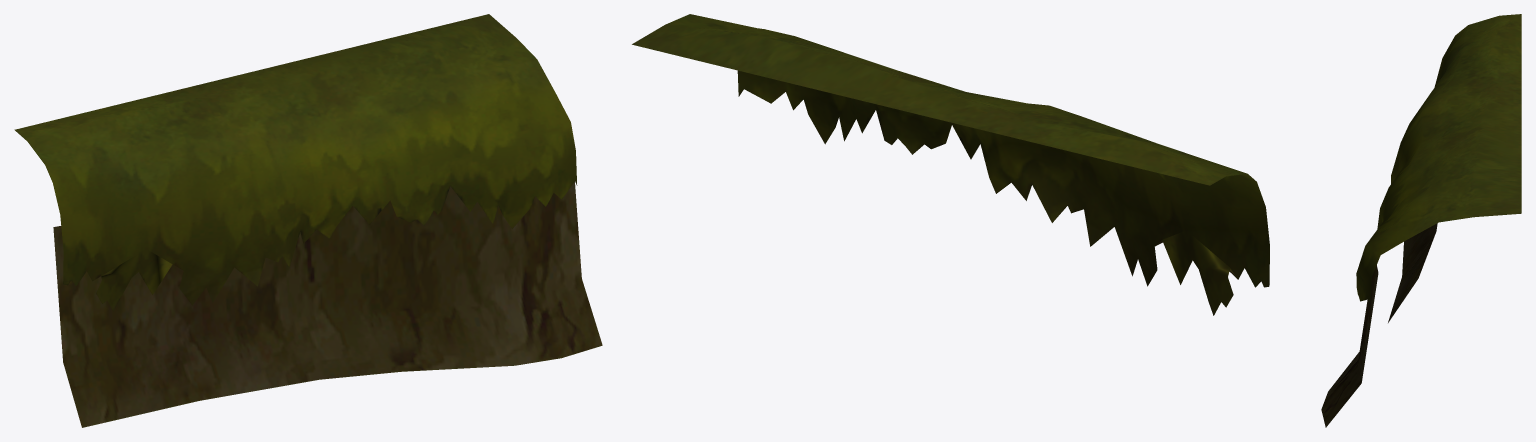
The model's file is lumina_trim_base4_p1_left.FBX.
3 views of the same model, side by side, from view 1: azimuth 30°, elevation 25°; view 2: azimuth 150°, elevation 25°; view 3: azimuth 270°, elevation 25° (orthographic). The views are drawn at different scales.
Visible parts, largest first — view 1: lumina_trim_base4_p1_left; view 2: lumina_trim_base4_p1_left; view 3: lumina_trim_base4_p1_left.
Part boxes in pixels (box(x1,y1,x2,y2)): lumina_trim_base4_p1_left: box(14, 14, 602, 427); lumina_trim_base4_p1_left: box(632, 14, 1269, 315); lumina_trim_base4_p1_left: box(1321, 14, 1521, 427).
Bounding box in the file's own units: 4 × 2.05 × 1.7.
